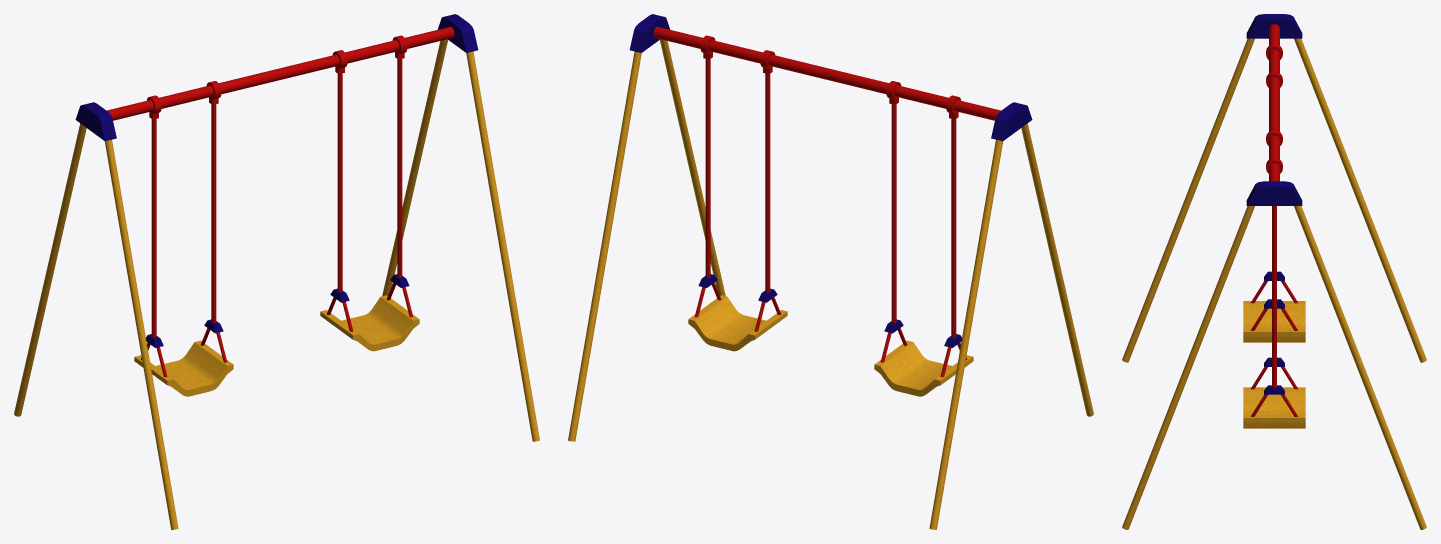
The model's file is XichDu.fbx.
3 views of the same model, side by side, from view 1: azimuth 30°, elevation 25°; view 2: azimuth 150°, elevation 25°; view 3: azimuth 270°, elevation 25° (orthographic). The views are drawn at different scales.
Visible parts, largest first — view 1: Cylinder.007, Cylinder.008, Cube.005, Cylinder, Cube.003, Cube.004; view 2: Cylinder.007, Cylinder.008, Cube.005, Cylinder, Cube.003, Cube.004; view 3: Cylinder.007, Cube.005, Cylinder.008, Cube.003, Cylinder, Cube.004.
Boxes of the visible parts, x1,y1,x2,y2 form: Cylinder.007: (14,39,539,529); Cylinder.008: (141,35,412,377); Cube.005: (134,295,419,396); Cylinder: (107,26,454,120); Cube.003: (75,14,478,141); Cube.004: (146,274,409,347); Cylinder.007: (568,39,1093,529); Cylinder.008: (695,35,966,377); Cube.005: (688,295,973,396); Cylinder: (653,26,1000,120); Cube.003: (629,14,1032,141); Cube.004: (698,274,961,347); Cylinder.007: (1122,38,1426,529); Cube.005: (1243,301,1305,428); Cylinder.008: (1251,44,1297,416); Cube.003: (1246,14,1302,205); Cylinder: (1269,24,1279,181); Cube.004: (1264,271,1284,394).
Size of the model in its own units: 161 by 150 by 120.
6 materials, 6 textured.
